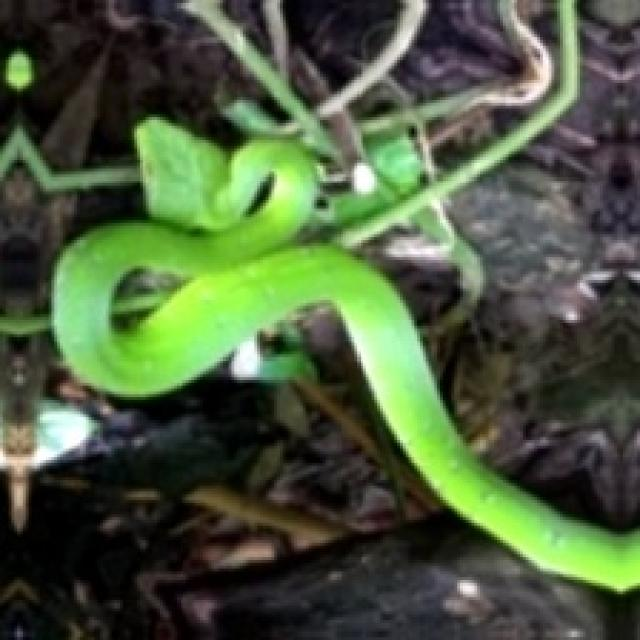north ph temple pitviper: (51, 0, 637, 589)
